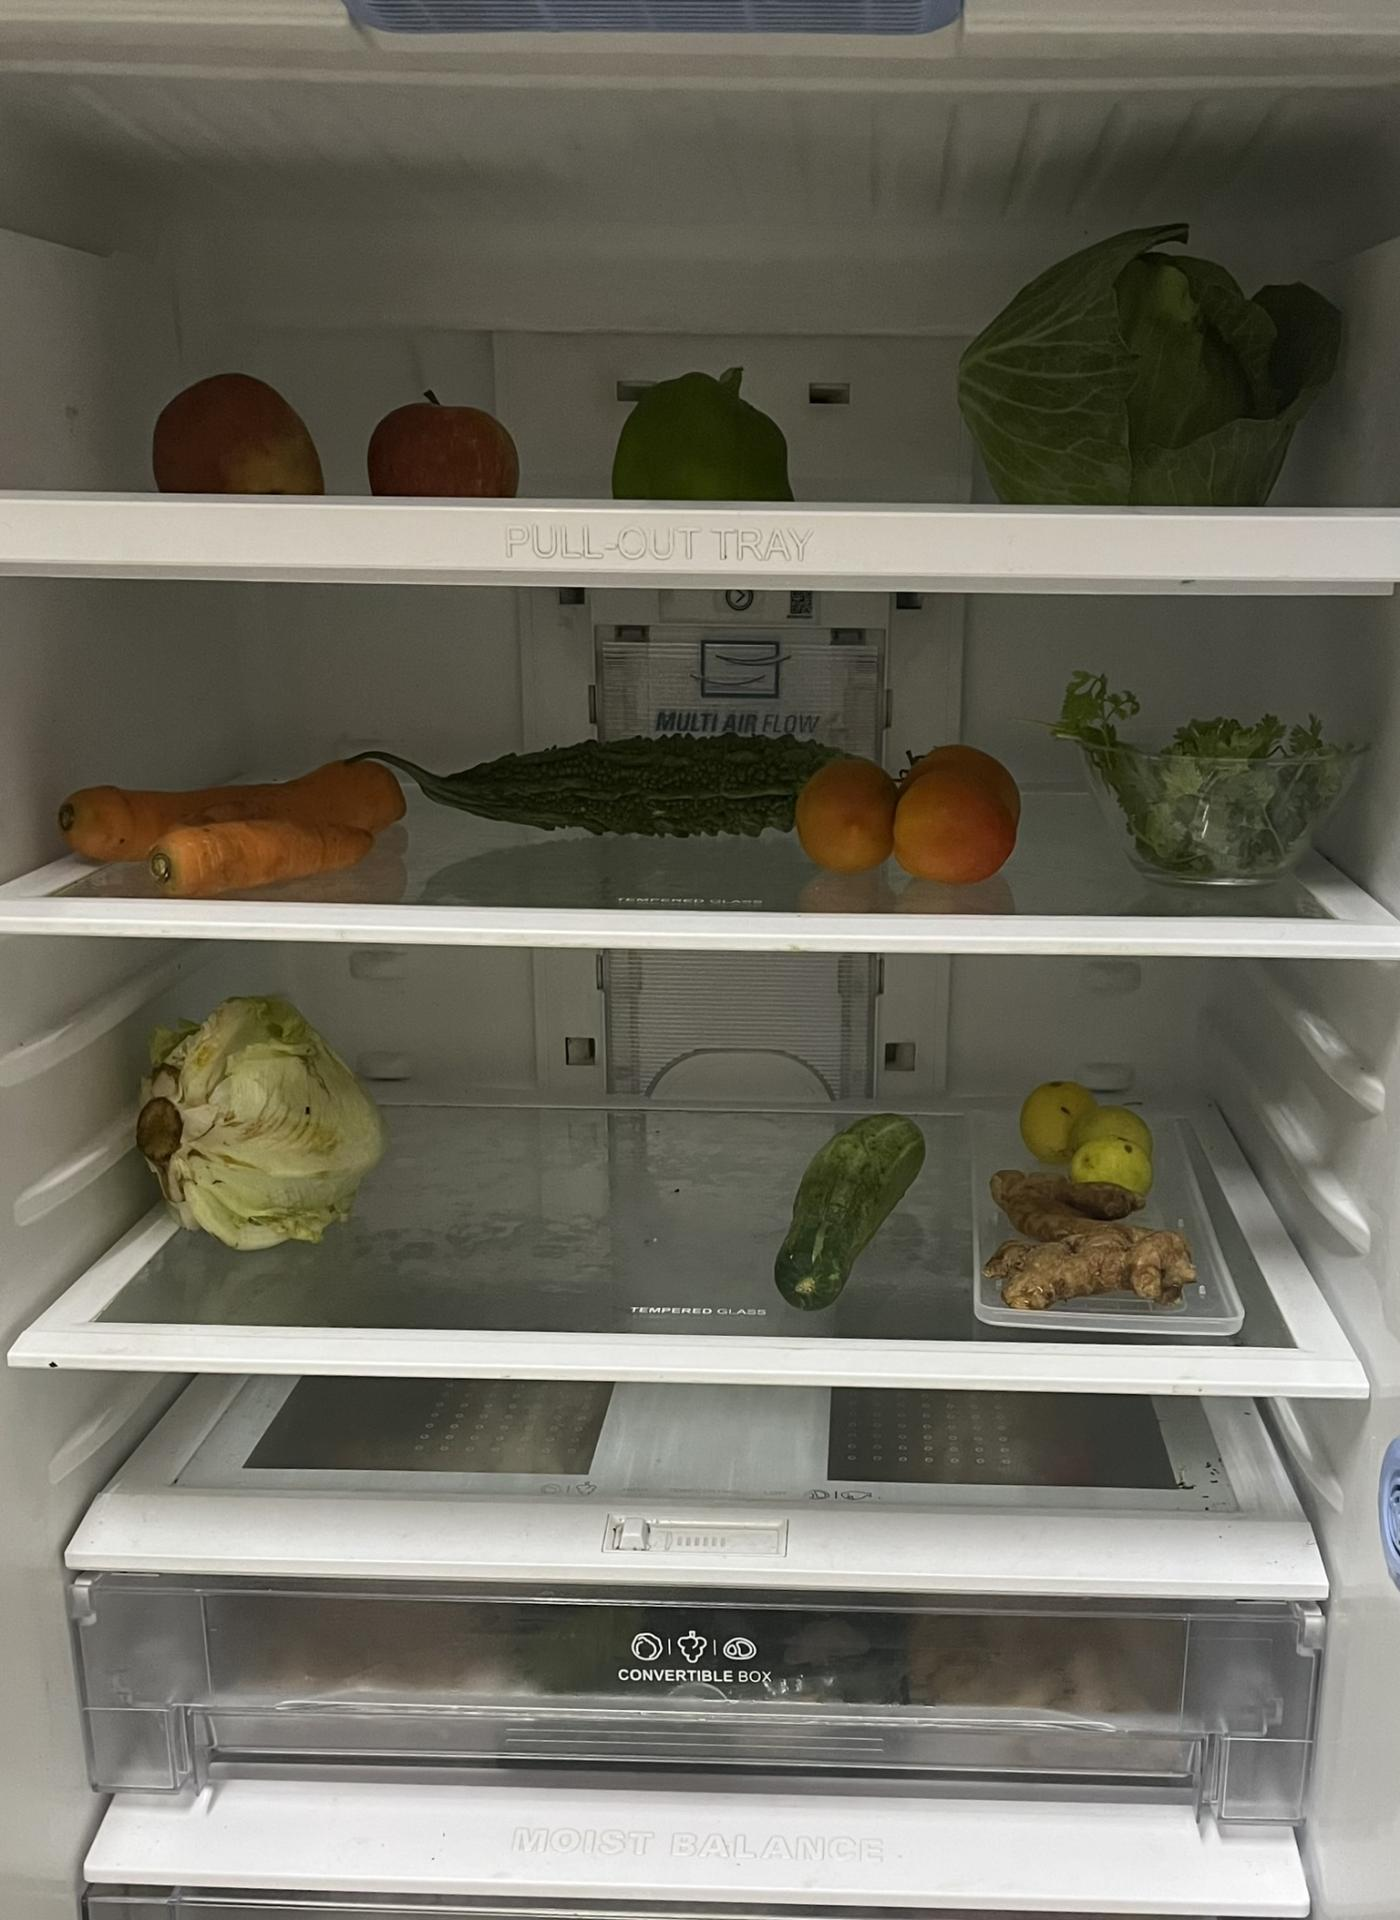apple: (158, 376, 325, 499), (361, 400, 522, 499)
bitter gourd: (407, 729, 830, 838)
cabbage: (966, 237, 1340, 504)
capsicum: (623, 382, 796, 499)
carrots: (58, 763, 410, 893)
coriander: (1057, 669, 1352, 869), (149, 997, 383, 1248)
cucumber: (784, 1112, 926, 1309)
ginger: (984, 1172, 1206, 1312)
lemon: (1021, 1081, 1151, 1191)
tomato: (808, 750, 1021, 875)
